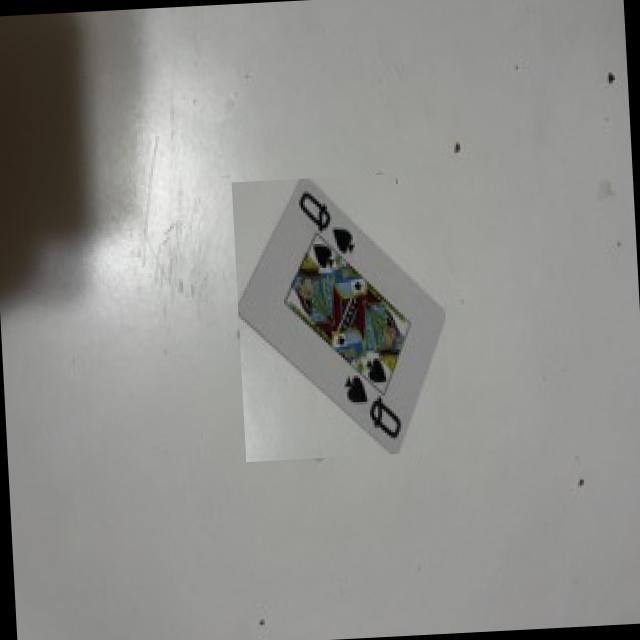Queen of spades: (237, 179, 445, 454)
